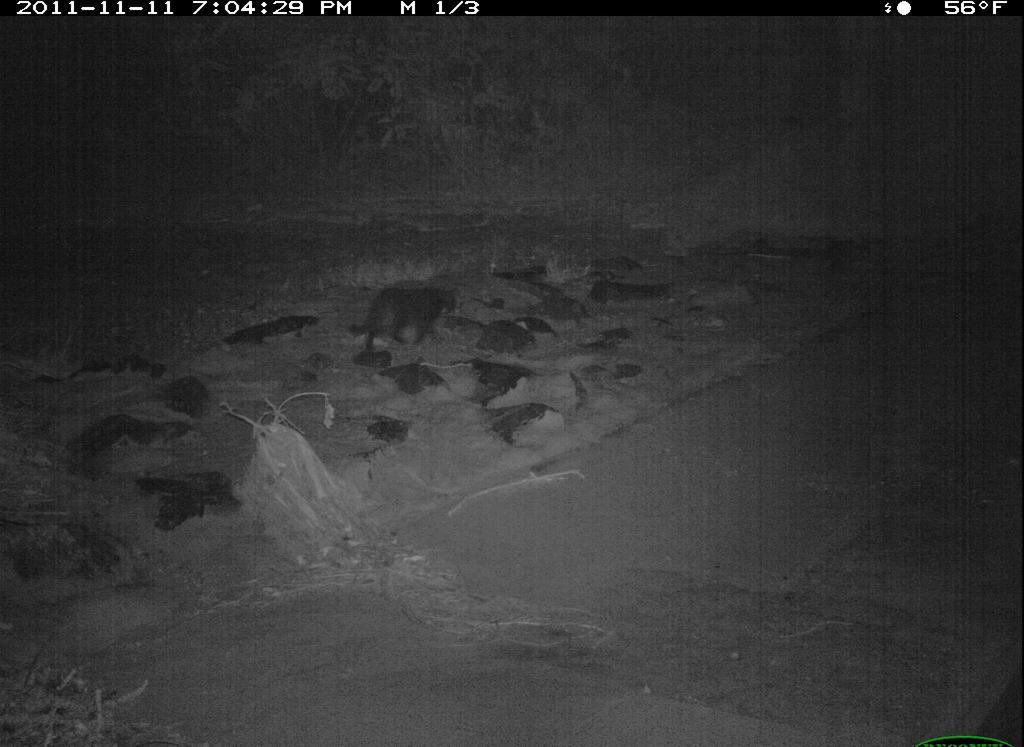cat: (342, 280, 469, 358)
